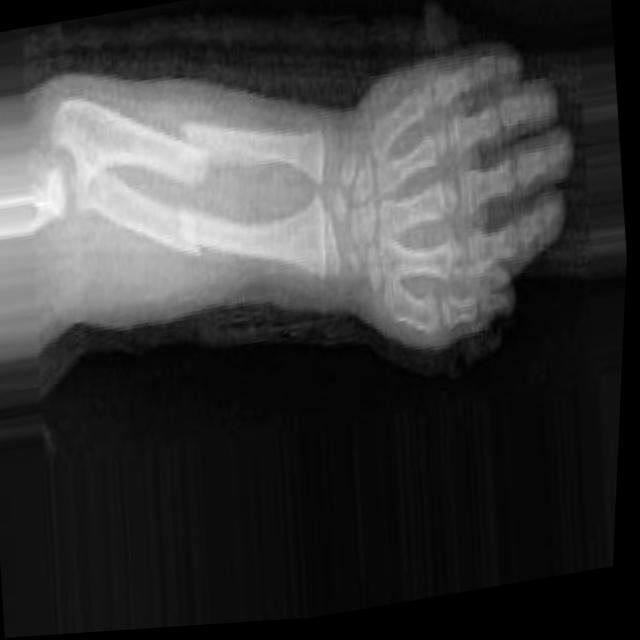fracture: (161, 95, 218, 196), (176, 199, 214, 272)
